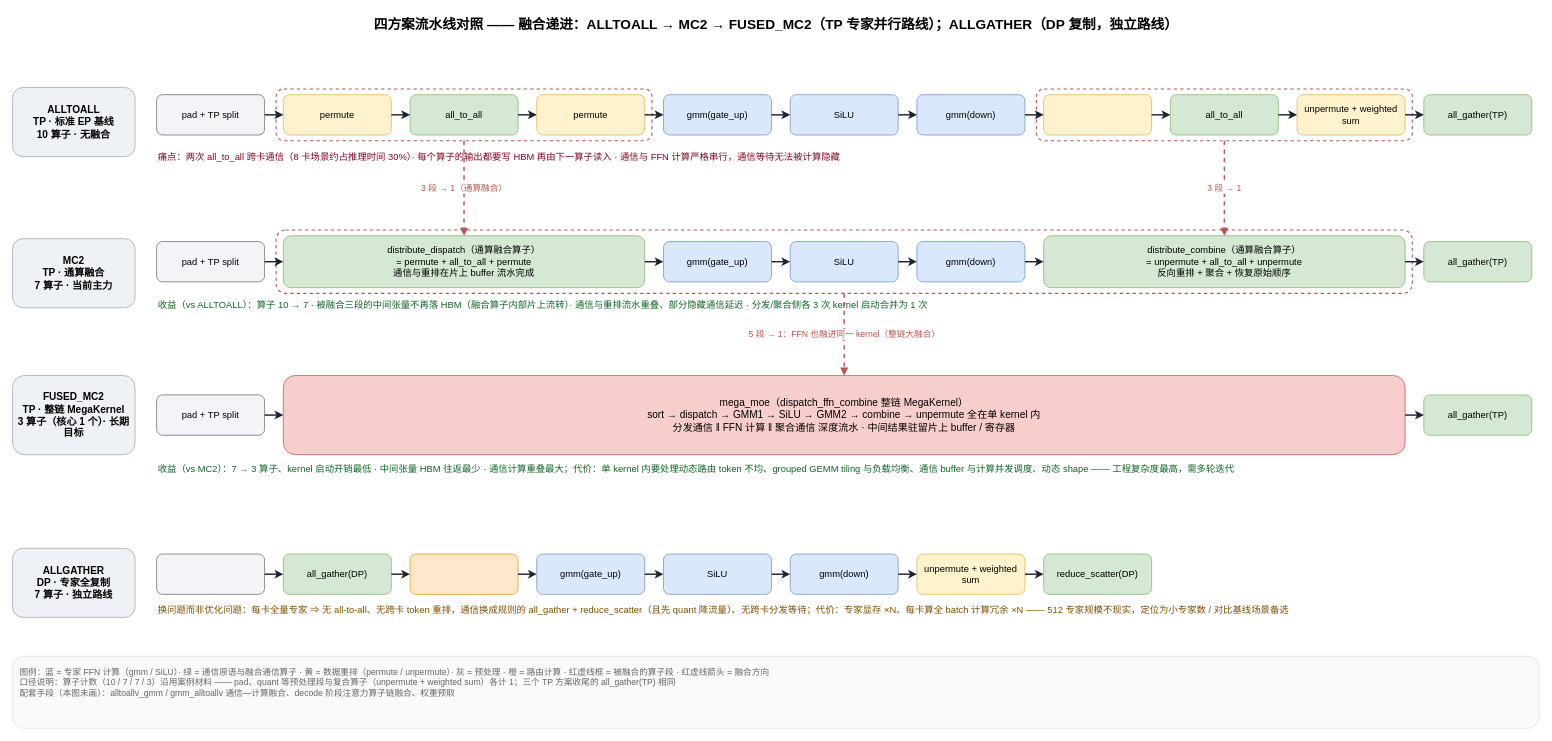
Some shapes in this 1552 by 741 pixel diagram are drawn without their labels. Each missing label, with the centre of its shape:
init_routing: point (463, 573)
quant: point (210, 573)
unpermute: point (1097, 114)
